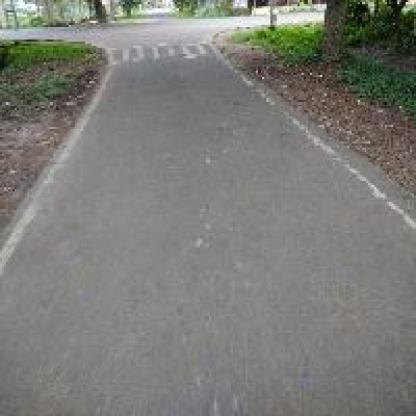Speed Bump: (110, 42, 214, 62)
